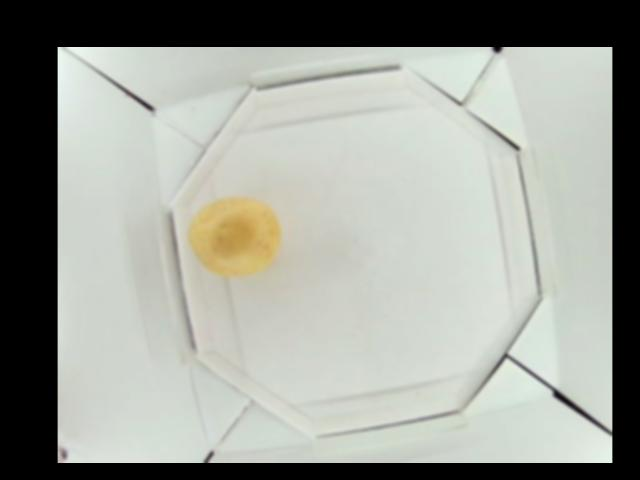Potato: (188, 196, 281, 279)
